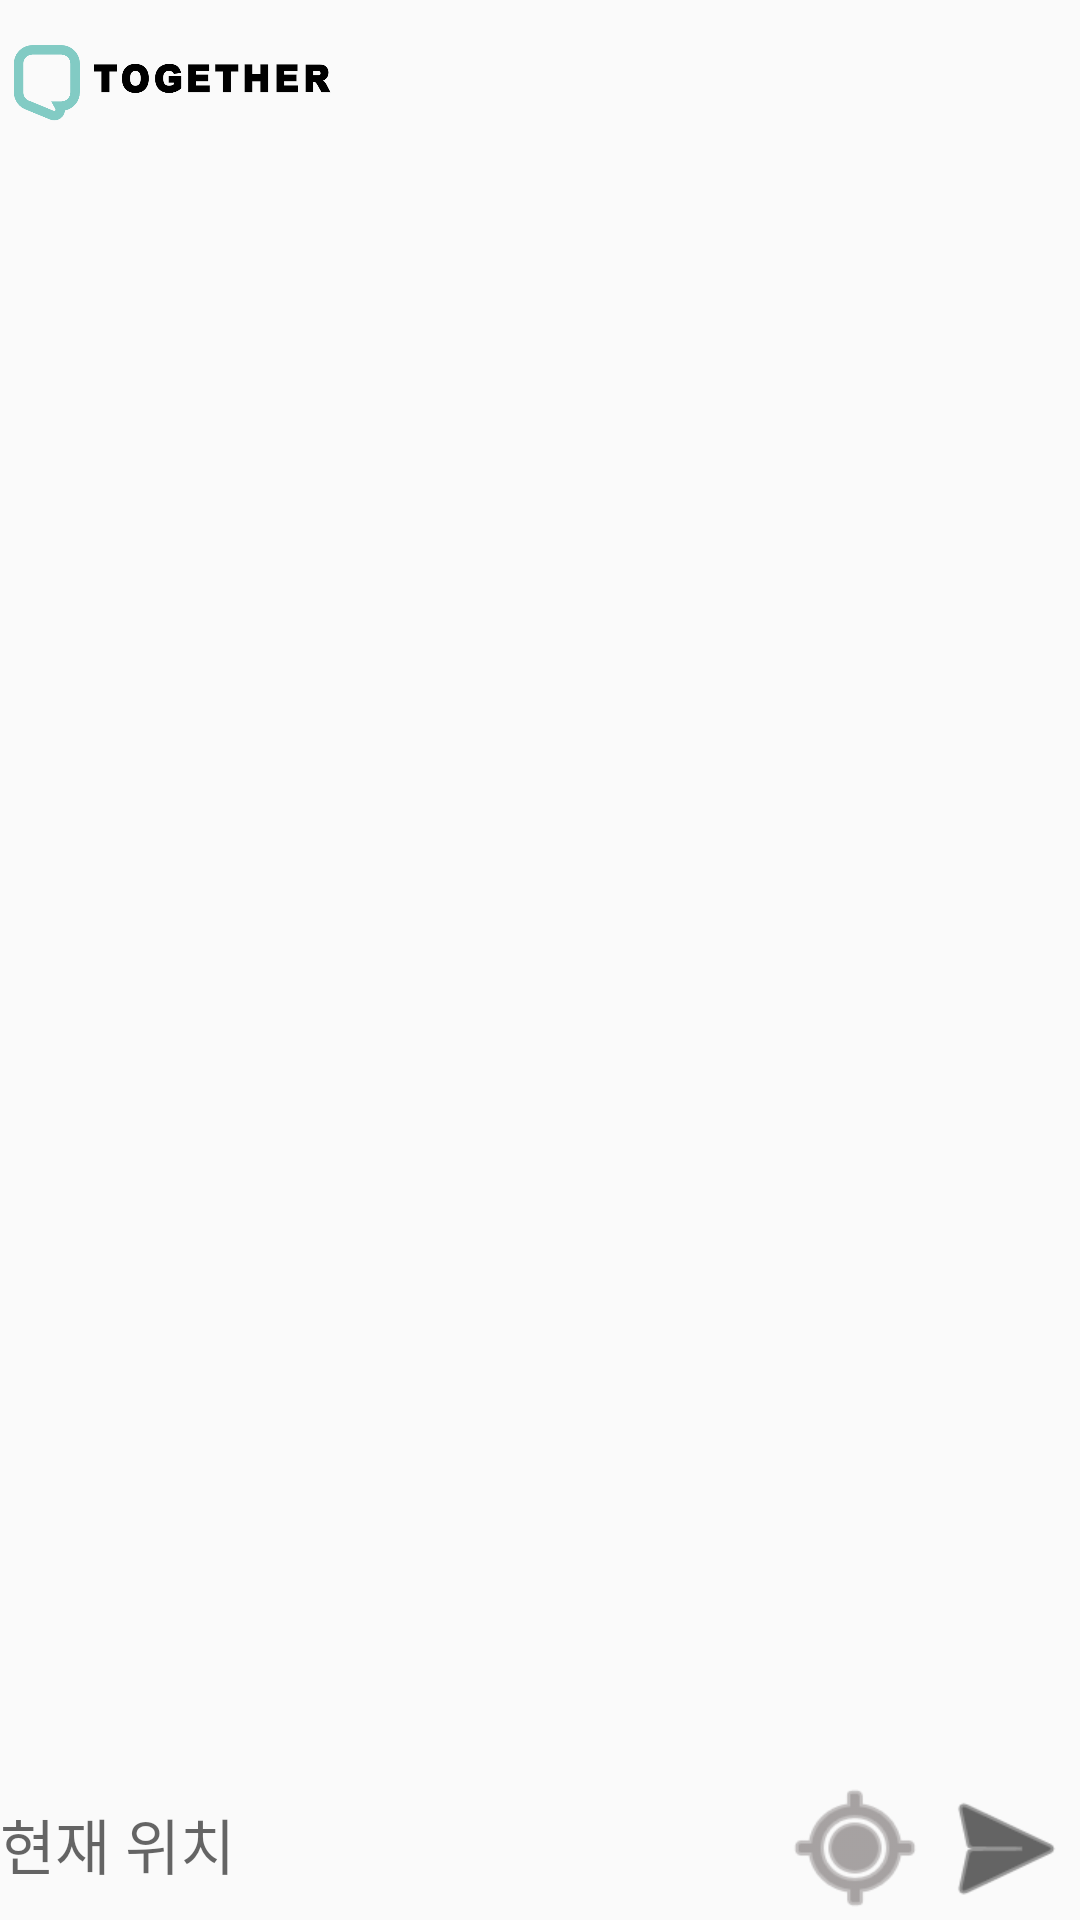

Icons on this 1080w x 1920h Android screen, each with its box as [left=x1, top=y1, right=x2, bottom=y2]:
mylocation: [left=795, top=1791, right=915, bottom=1905]
send: [left=958, top=1803, right=1054, bottom=1894]
